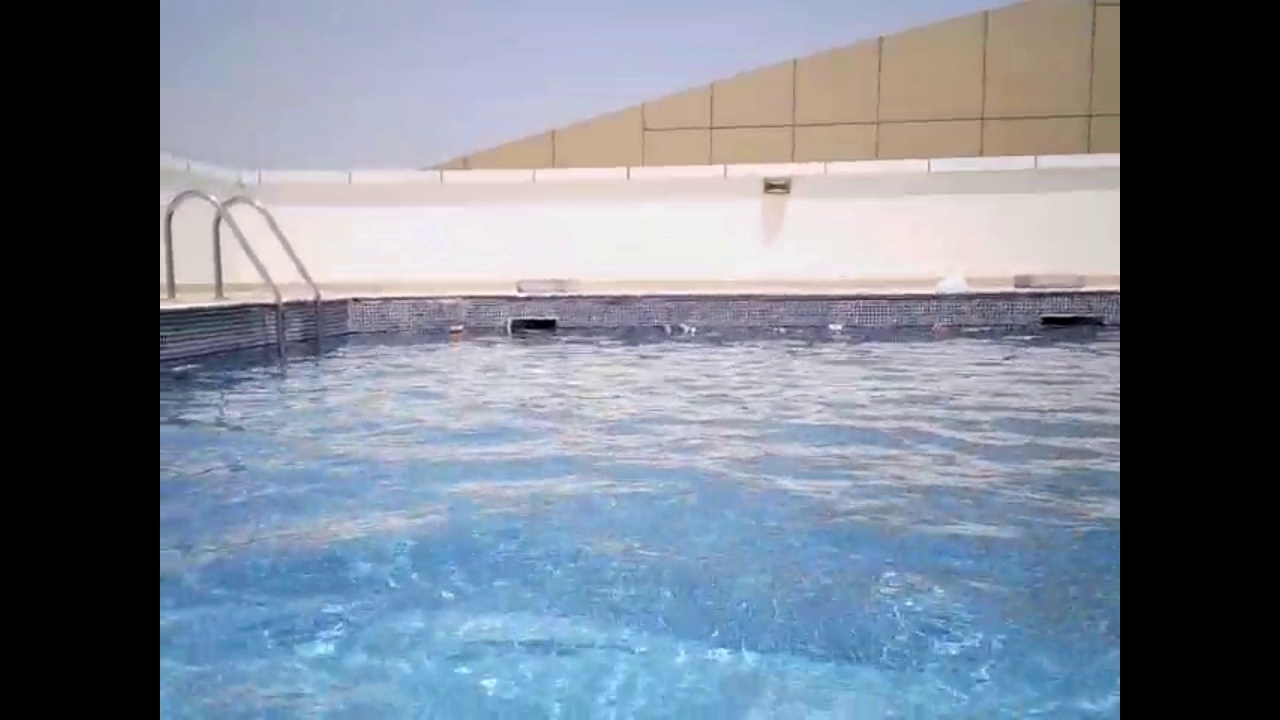debris: (819, 316, 848, 338), (648, 319, 674, 340), (674, 319, 701, 339), (444, 319, 468, 338)
